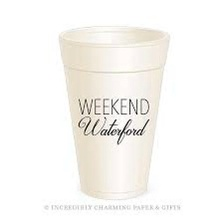paper_cup: (52, 19, 174, 205)
